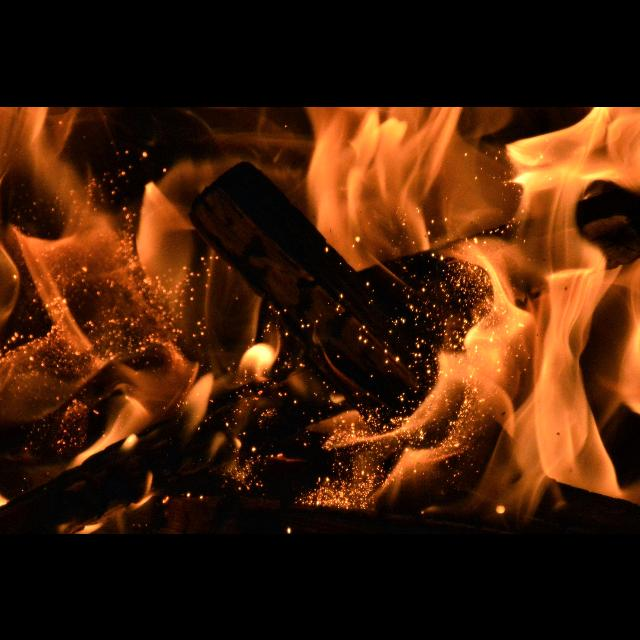fire: (0, 160, 640, 533)
